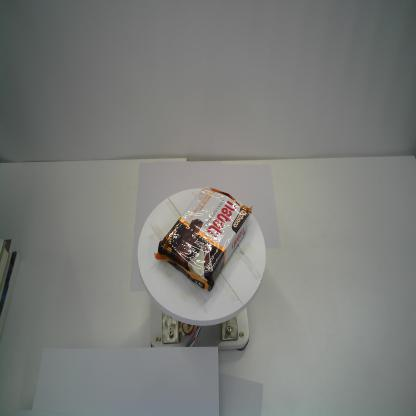Dessert: (152, 183, 253, 293)
